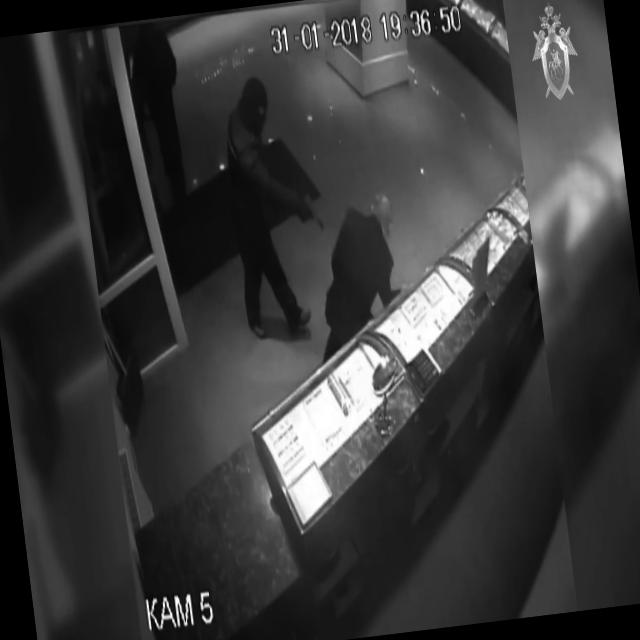gun: (297, 200, 324, 232)
person: (328, 176, 418, 299)
person with a gun: (217, 71, 336, 339)
